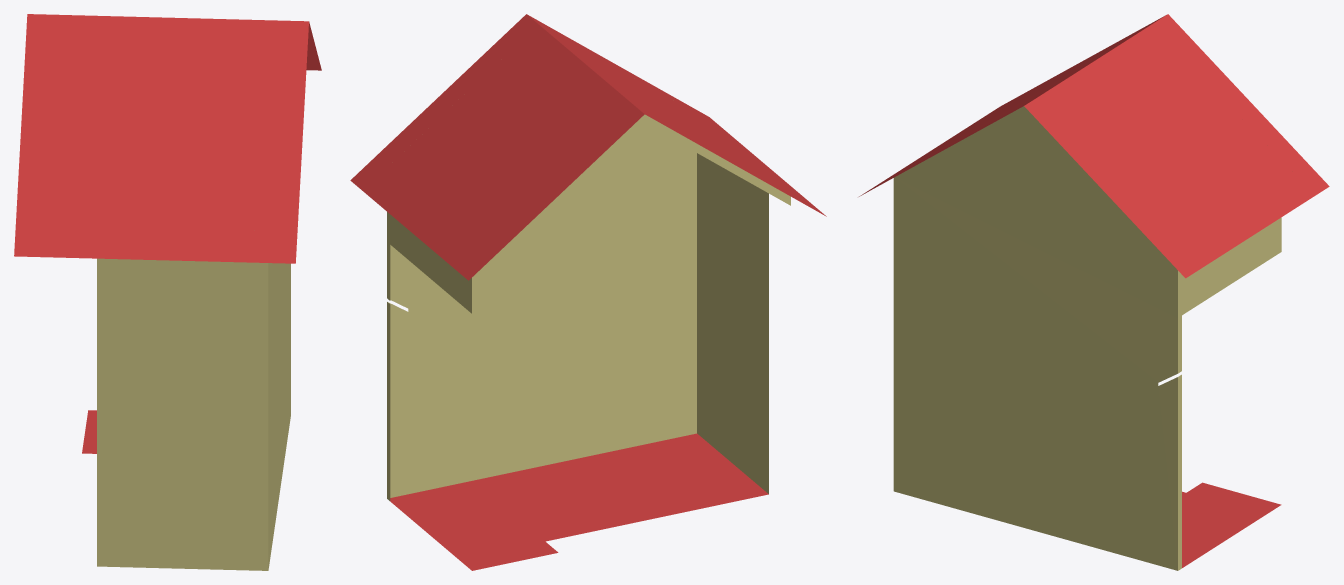
3 views of the same model, side by side, from view 1: azimuth 30°, elevation 25°; view 2: azimuth 150°, elevation 25°; view 3: azimuth 270°, elevation 25° (orthographic). The views are drawn at different scales.
Bounding box in the file's own units: 12.12 × 13.17 × 13.37.
